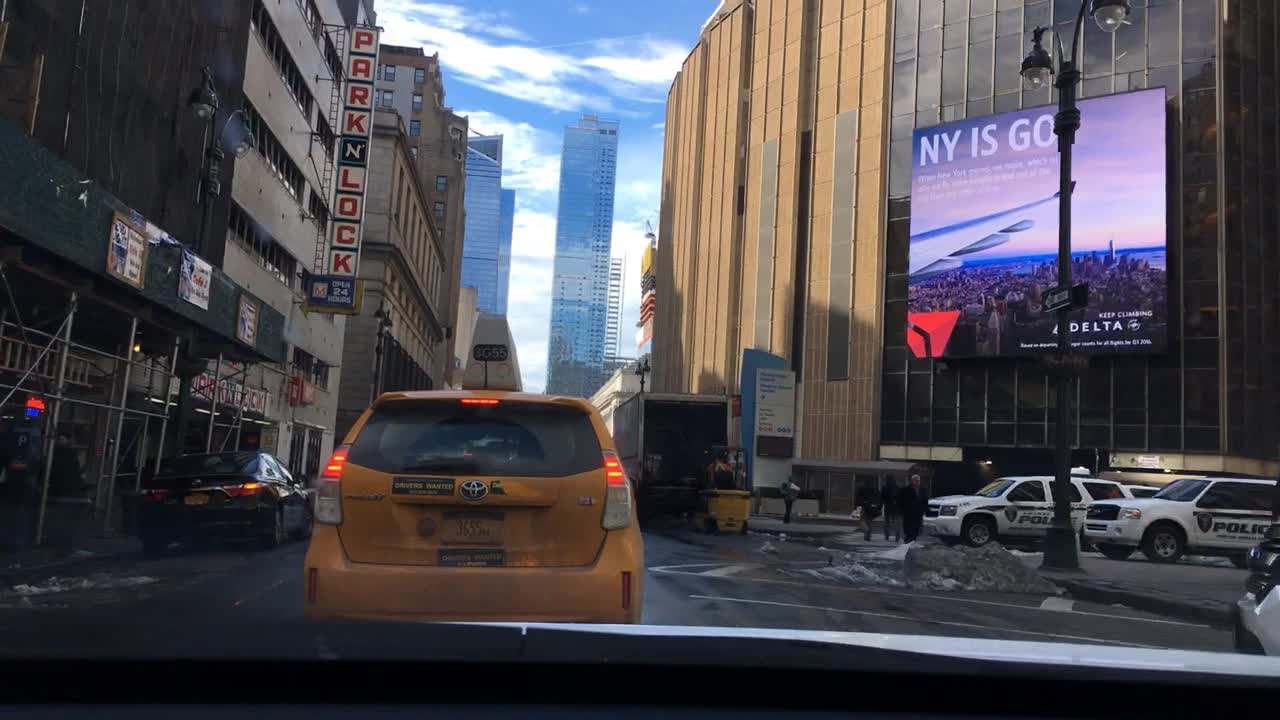car: (299, 313, 648, 633), (139, 447, 318, 552), (923, 473, 1132, 548), (1123, 483, 1165, 500)
person: (900, 474, 927, 541), (878, 470, 902, 541), (780, 473, 799, 521)
traffic sign: (1040, 284, 1086, 316)
truck: (611, 388, 753, 533), (1082, 474, 1278, 564), (1233, 520, 1278, 655)
